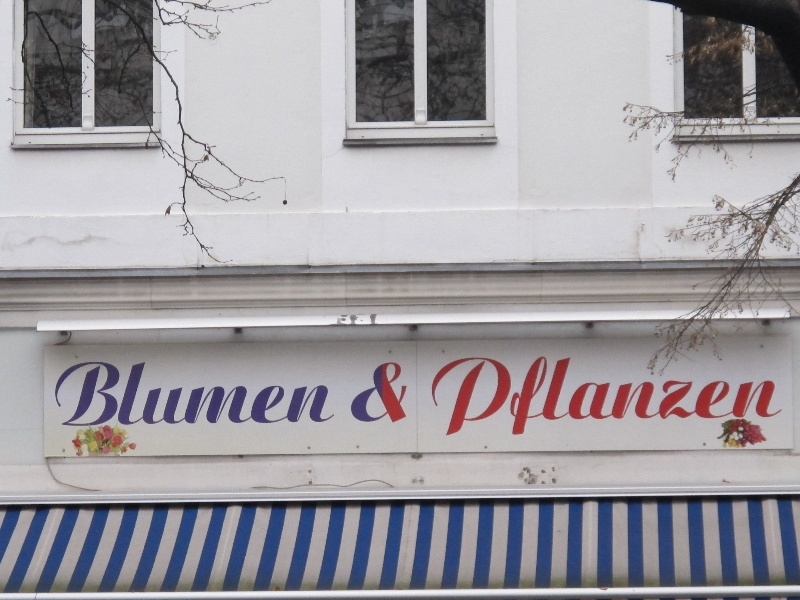text: (449, 354, 464, 438), (465, 354, 480, 438), (481, 354, 496, 438), (497, 354, 512, 438), (513, 354, 528, 438), (529, 354, 544, 438), (545, 354, 560, 438), (561, 354, 576, 438), (577, 354, 592, 438), (593, 354, 608, 438), (609, 354, 624, 438), (625, 354, 640, 438), (641, 354, 656, 438), (657, 354, 672, 438), (673, 354, 688, 438), (689, 354, 704, 438), (705, 354, 720, 438), (721, 354, 736, 438), (737, 354, 752, 438), (753, 354, 768, 438), (769, 354, 784, 438), (65, 361, 80, 431), (81, 361, 96, 431), (97, 361, 112, 431), (113, 361, 128, 431), (129, 361, 144, 431), (145, 361, 160, 431), (161, 361, 176, 431), (177, 361, 192, 431), (193, 361, 208, 431), (209, 361, 224, 431), (225, 361, 240, 431), (241, 361, 256, 431), (257, 361, 272, 431), (273, 361, 288, 431), (289, 361, 304, 431), (305, 361, 320, 431), (321, 361, 336, 431), (385, 361, 400, 426), (439, 354, 448, 438), (337, 361, 347, 431), (374, 361, 384, 426), (401, 361, 410, 426), (58, 361, 64, 431), (785, 354, 787, 438)
